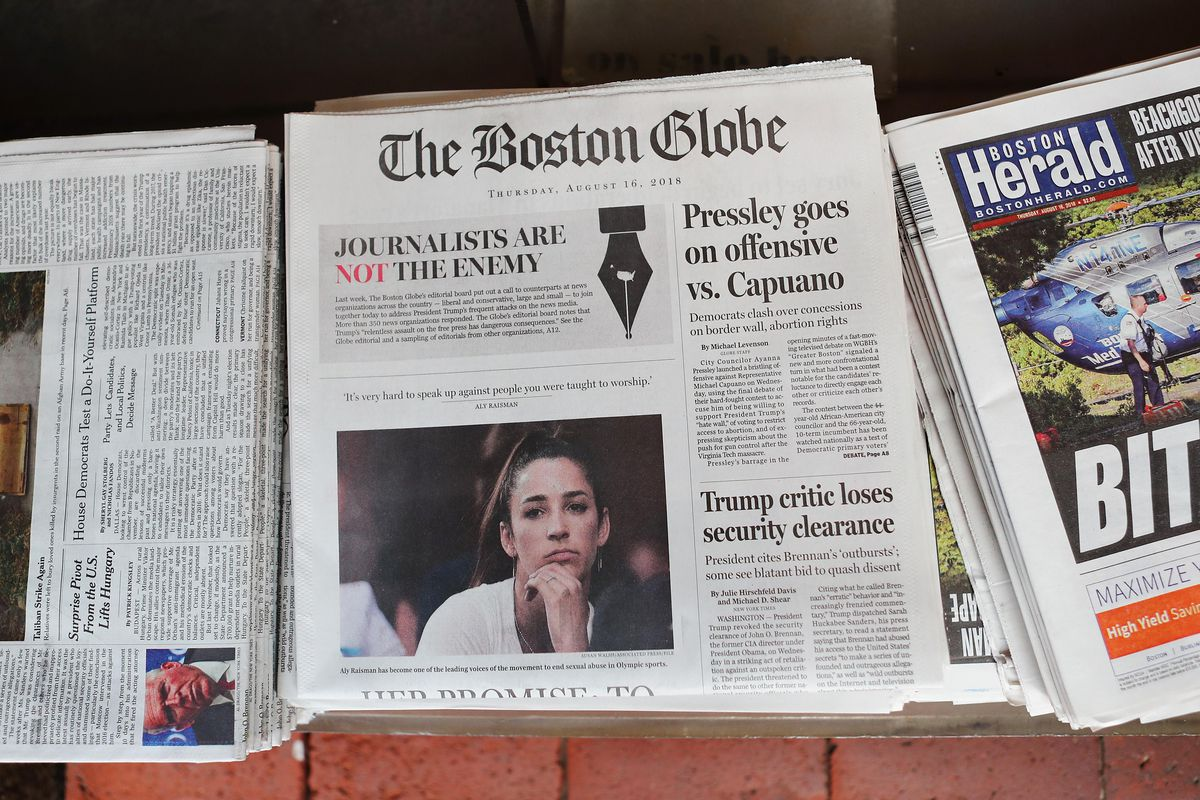news_paper: (285, 47, 947, 756), (868, 34, 1200, 742), (1, 126, 290, 766), (947, 43, 949, 45)
